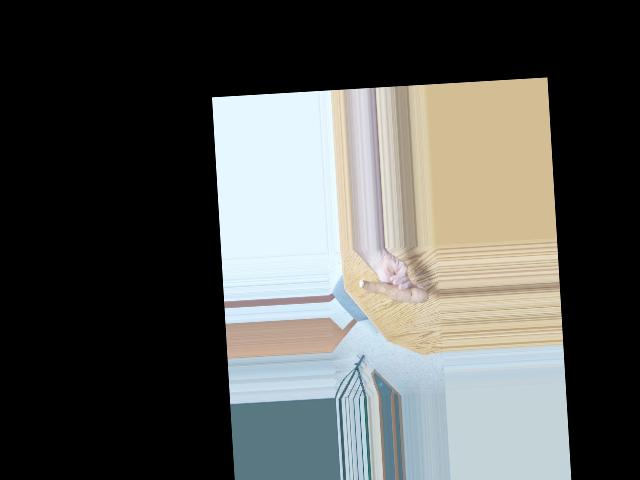sweet_potato: (357, 273, 427, 309)
